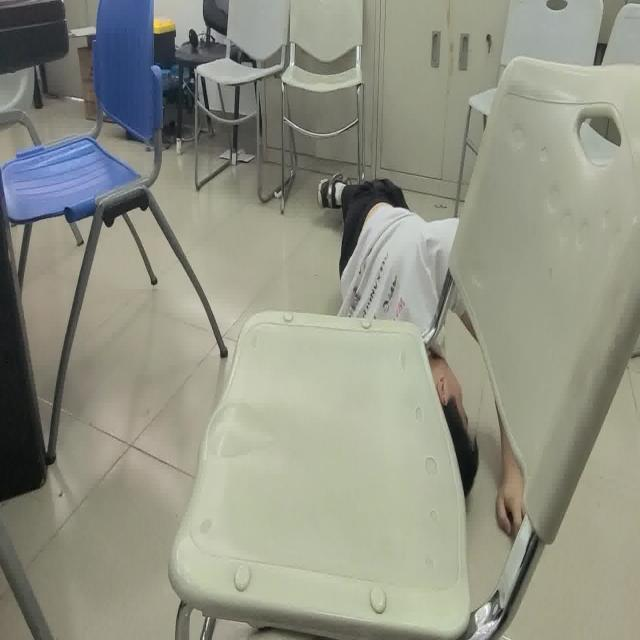fall: (315, 170, 534, 534)
